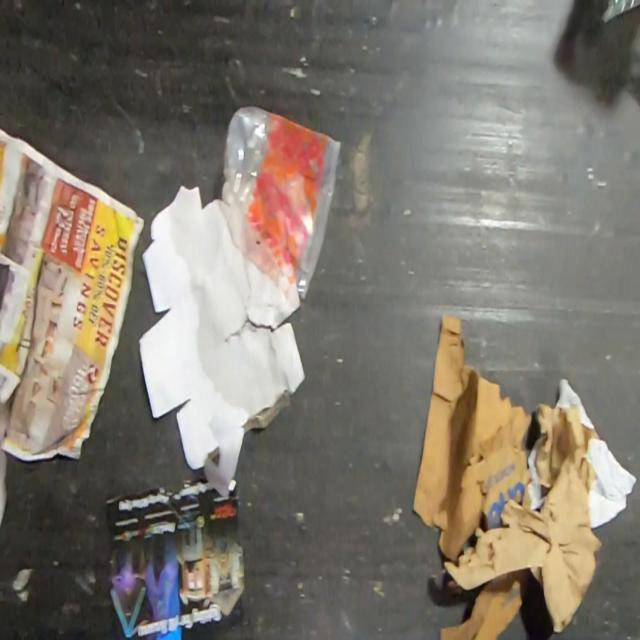cardboard: (137, 183, 306, 470), (411, 310, 534, 562), (438, 568, 533, 640)
rigid_plastic: (219, 104, 342, 308)
soft_plastic: (584, 440, 638, 528), (204, 415, 246, 499), (554, 377, 596, 431), (527, 434, 547, 511)
